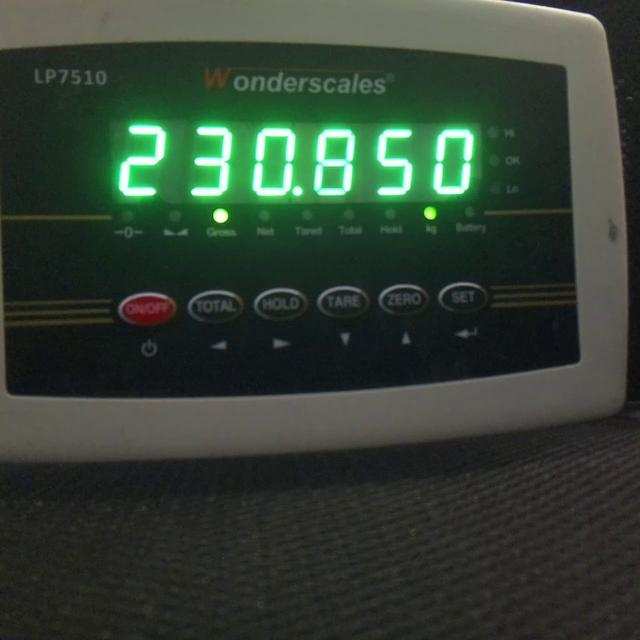.: (292, 185, 305, 197)
0: (252, 126, 296, 196), (433, 128, 473, 195)
2: (118, 123, 164, 196)
3: (191, 126, 233, 197)
5: (374, 127, 414, 196)
8: (313, 127, 355, 195)
